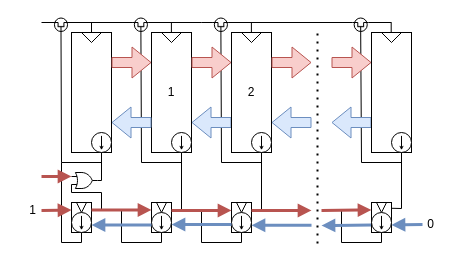
Image size: 462x262. Some labels were removed from this diagram. Each missing label, with the box of its shape:
0 (Top): (70, 32, 112, 152)
n-1: (370, 32, 412, 152)
